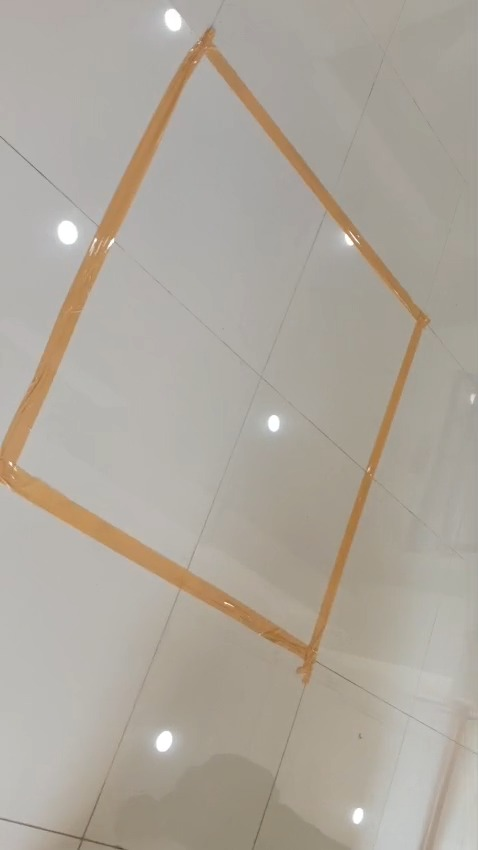floor marking: (1, 27, 428, 681)
